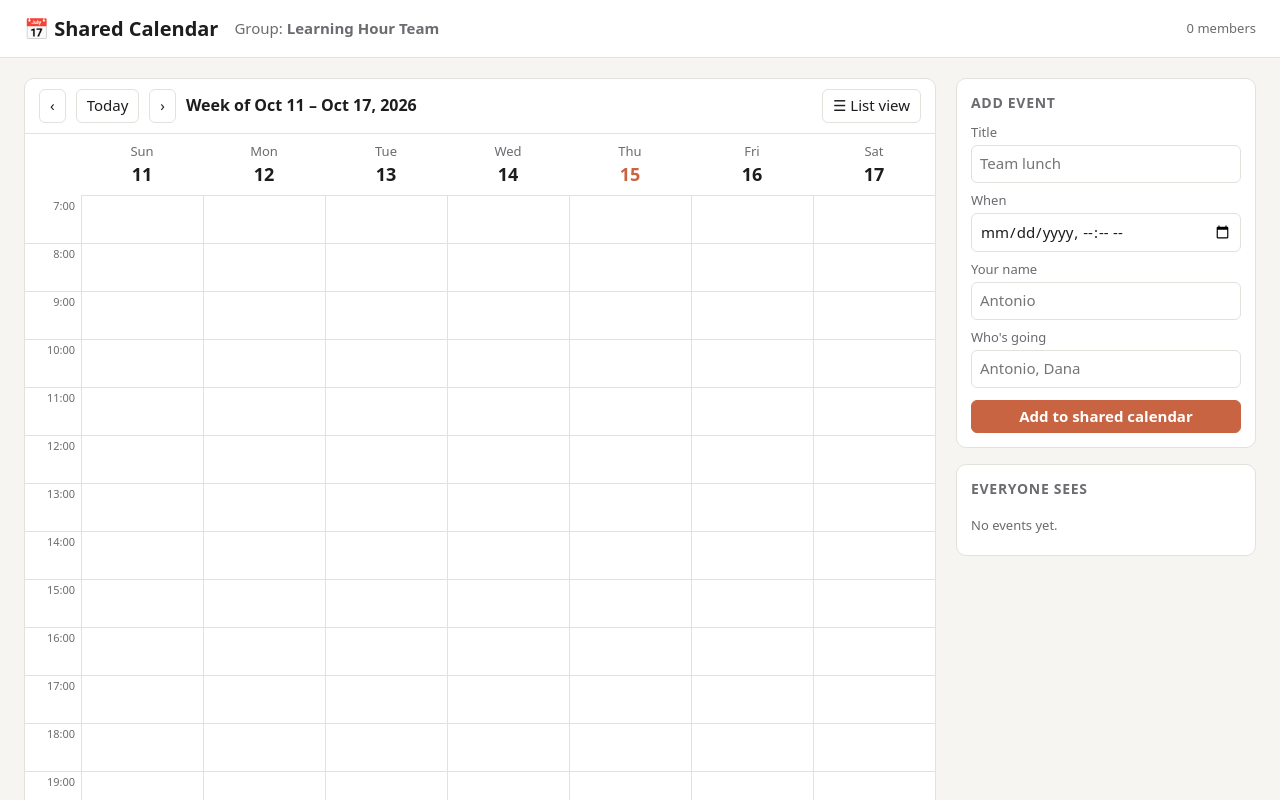
Test: Everyone sees feed › shows the most recently added event first
The width and height of the screenshot is (1280, 800).
Type "Austin City Limits" into the field with test id "title". click: point(1106, 164)
box: left=971, top=145, right=1241, bottom=183
Type "2026-10-17T18:00" into the field with test id "start". click: point(1106, 233)
box: left=971, top=213, right=1241, bottom=252
Type "Llewellyn" into the field with test id "who". click: point(1106, 301)
box: left=971, top=282, right=1241, bottom=320
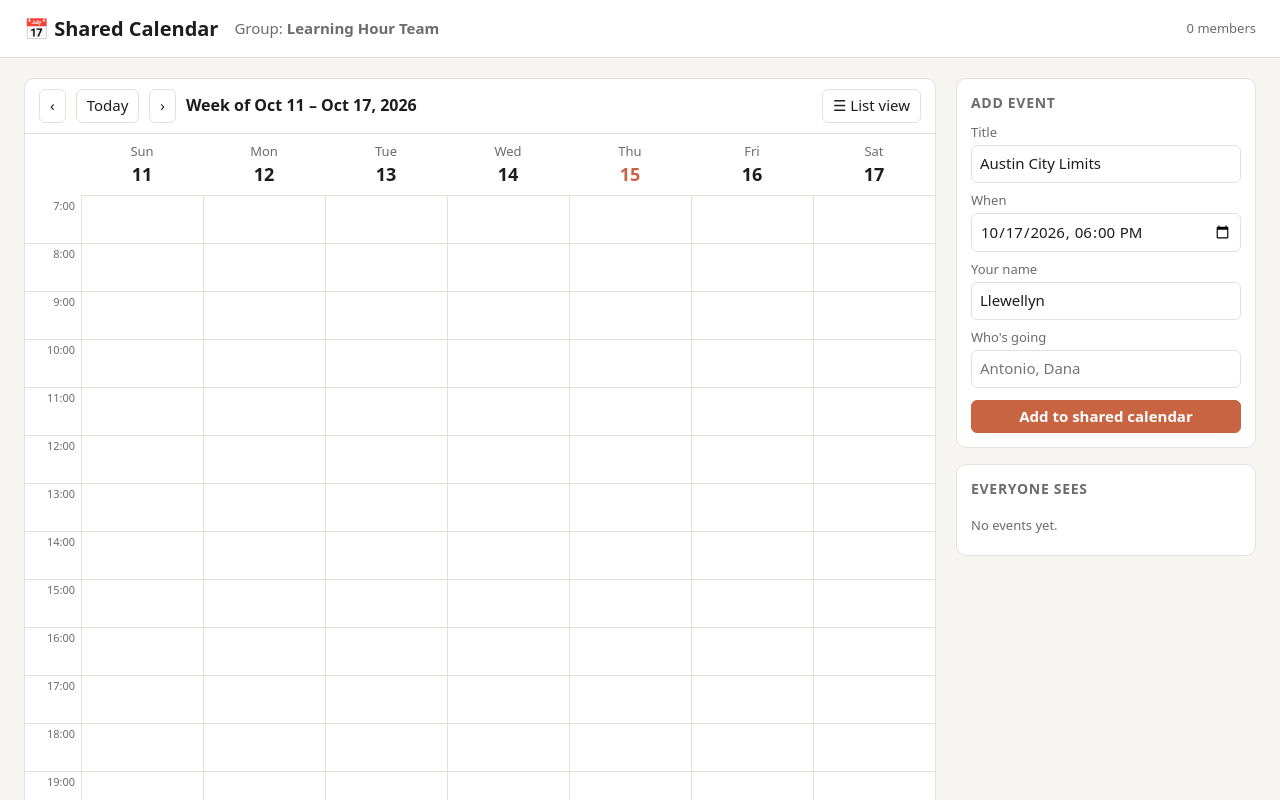
Submit the form, box left=971, top=123, right=1241, bottom=433
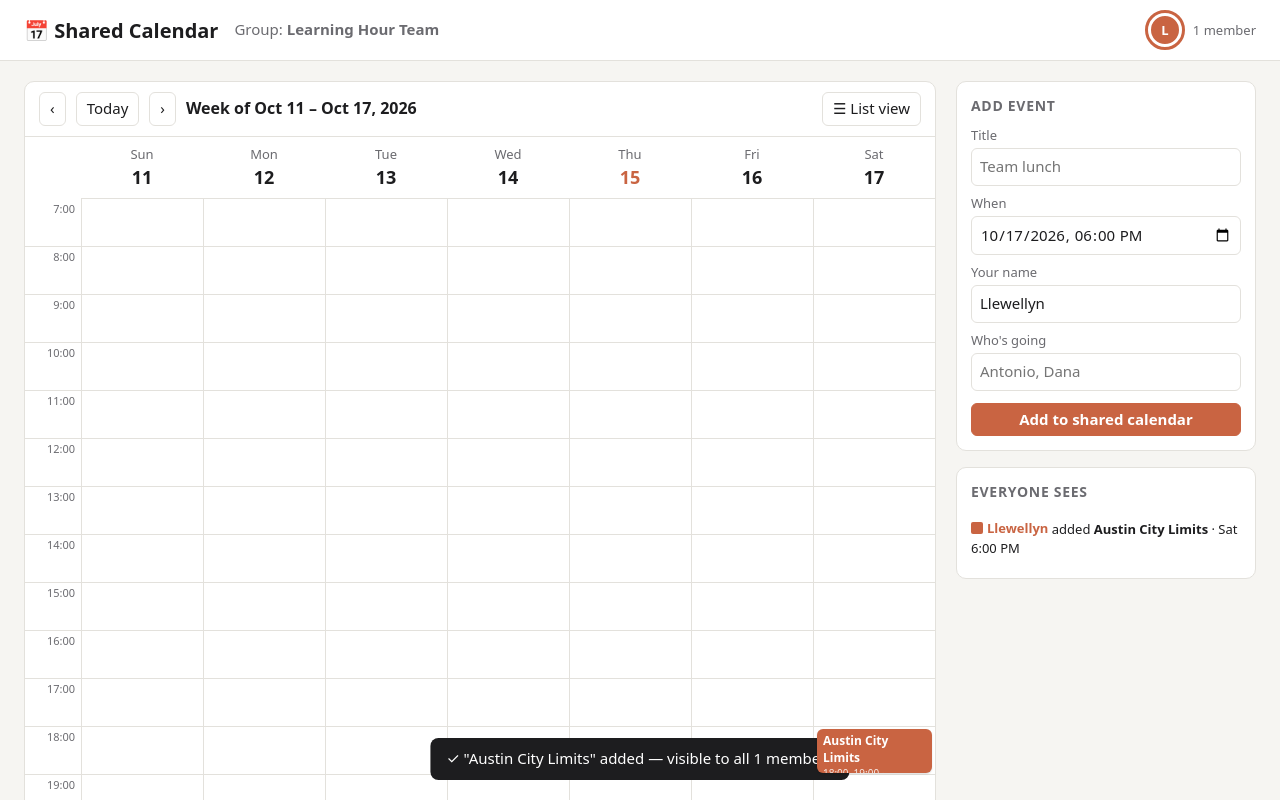
Type "Standup" into the field with test id "title". click: point(1106, 167)
box: left=971, top=148, right=1241, bottom=186
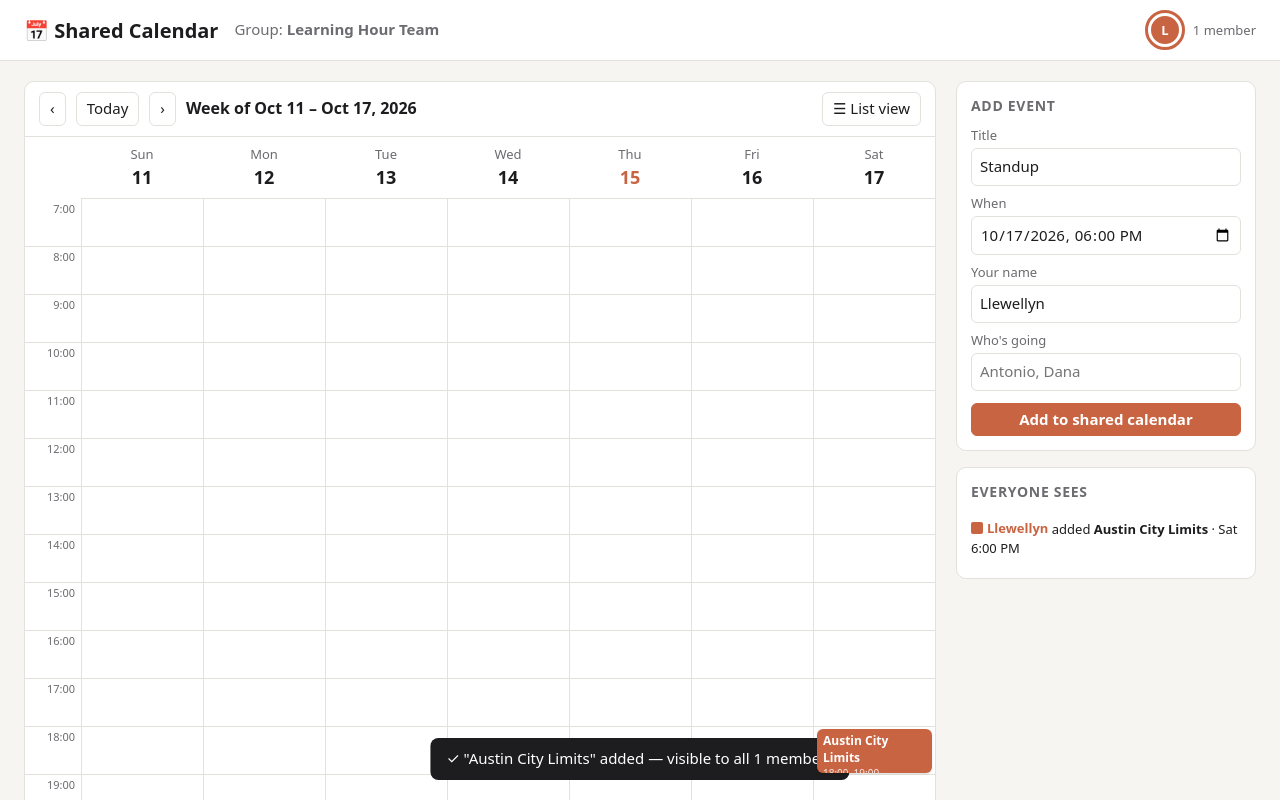
Replace the text in the field with test id "start" with "2026-10-12T09:00". click: point(1106, 236)
box: left=971, top=216, right=1241, bottom=256
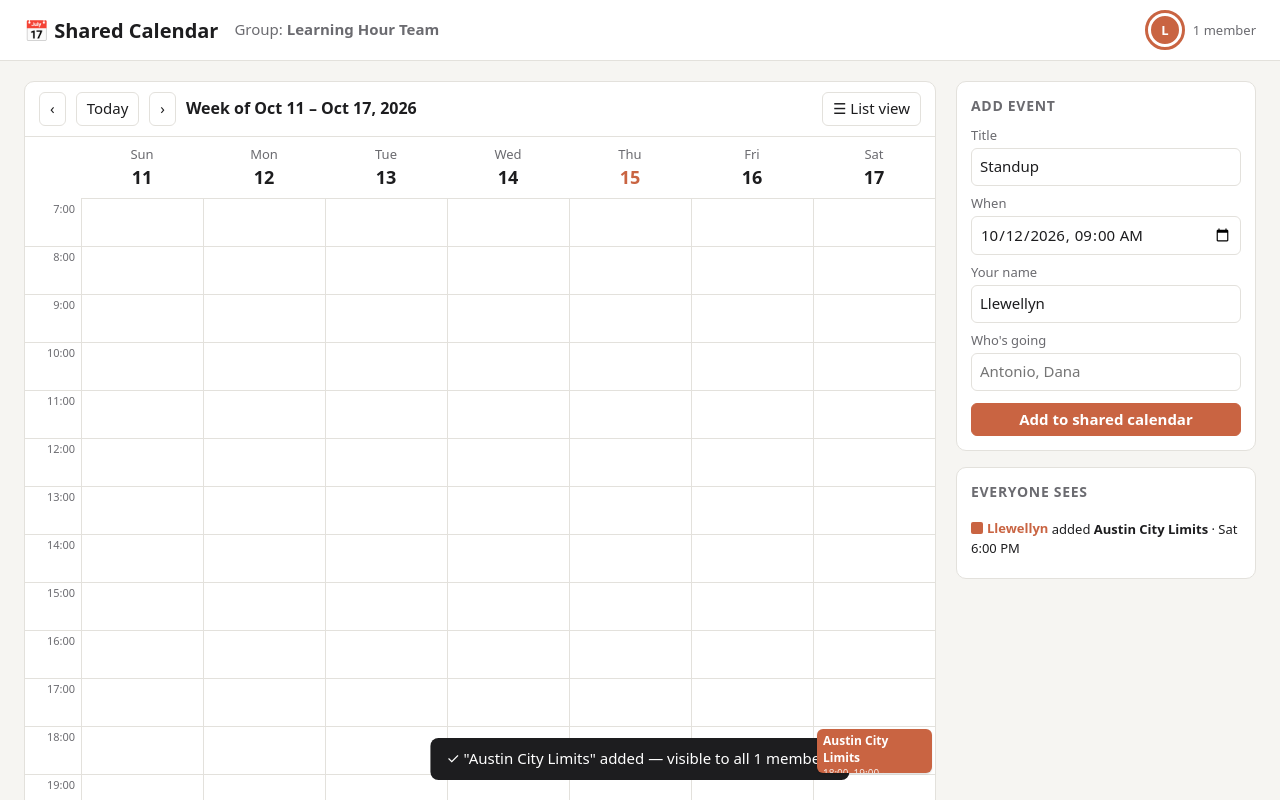
Replace the text in the field with test id "who" showing "Your name" with "Antonio". click: point(1106, 304)
box: left=971, top=285, right=1241, bottom=323
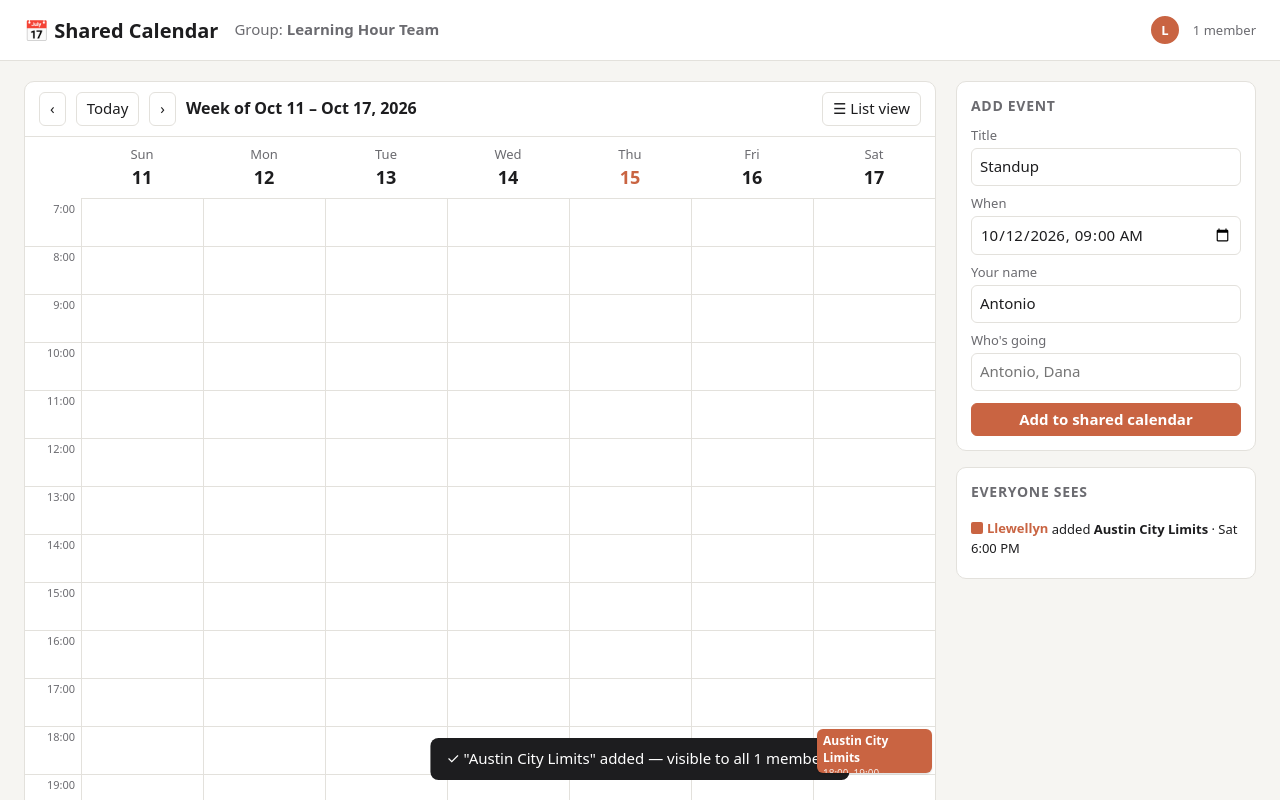
Submit the form, box left=971, top=126, right=1241, bottom=436
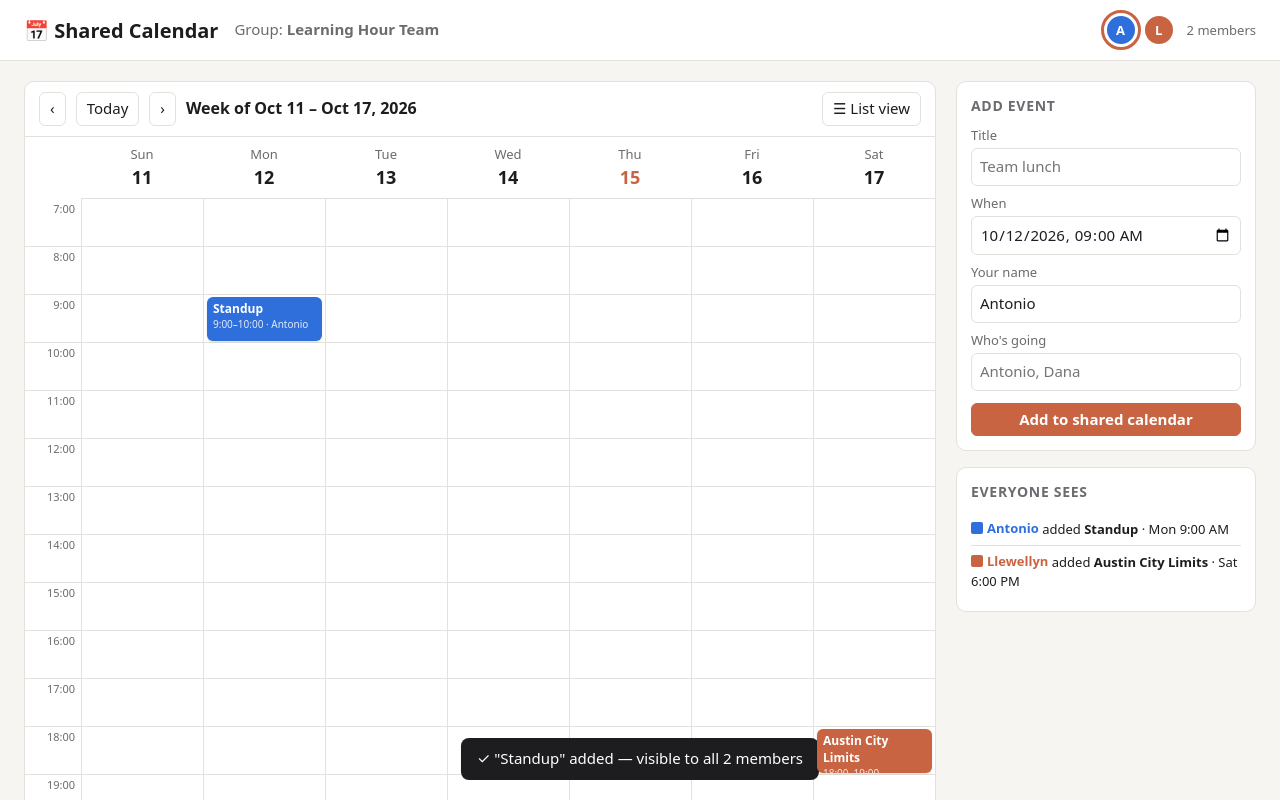
expect the list item "Llewellyn added Austin City Limits · Sat 6:00 PM" is shown: met, box left=971, top=546, right=1241, bottom=597
expect the list item "Antonio added Standup · Mon 9:00 AM" is shown: met, box left=971, top=513, right=1241, bottom=546
